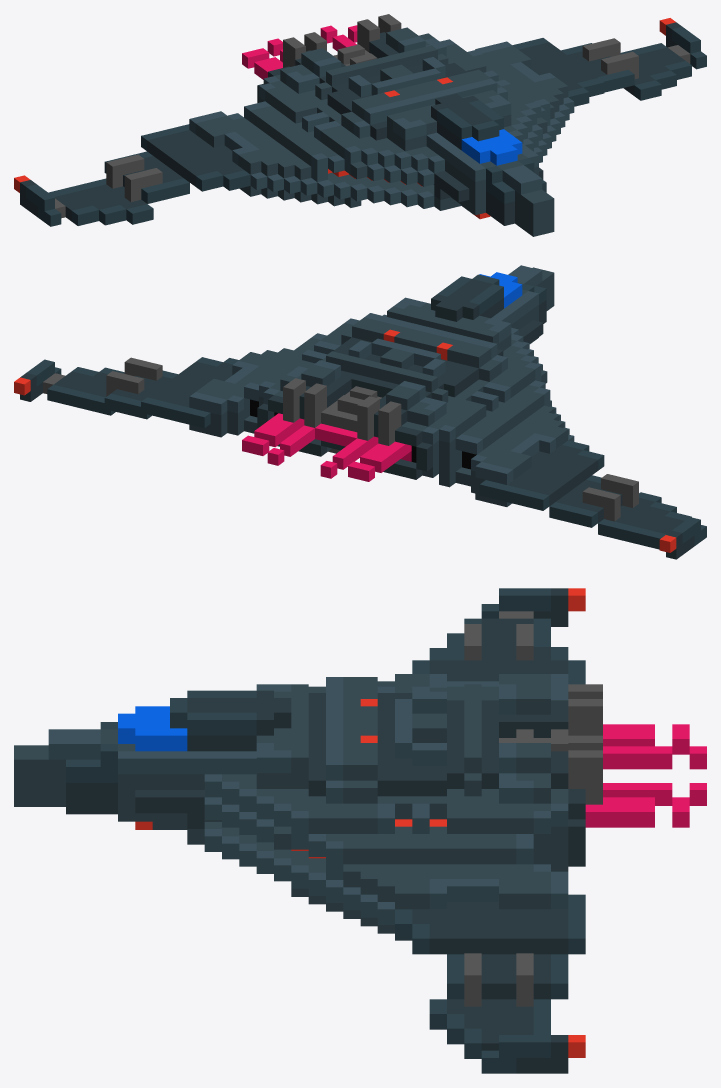
The model's file is InfrareddFurtive.glb.
3 views of the same model, one above another, from view 1: azimuth 30°, elevation 25°; view 2: azimuth 150°, elevation 25°; view 3: azimuth 270°, elevation 25° (orthographic). The views are drawn at different scales.
Parts seen in each view (by area): view 1: Untitled; view 2: Untitled; view 3: Untitled.
Boxes of the visible parts, x1,y1,x2,y2 form: Untitled: [14, 14, 706, 236]; Untitled: [14, 265, 706, 559]; Untitled: [14, 588, 706, 1073].
Bounding box in the file's own units: 6.2 × 0.9 × 4.
1 material, 1 textured.
